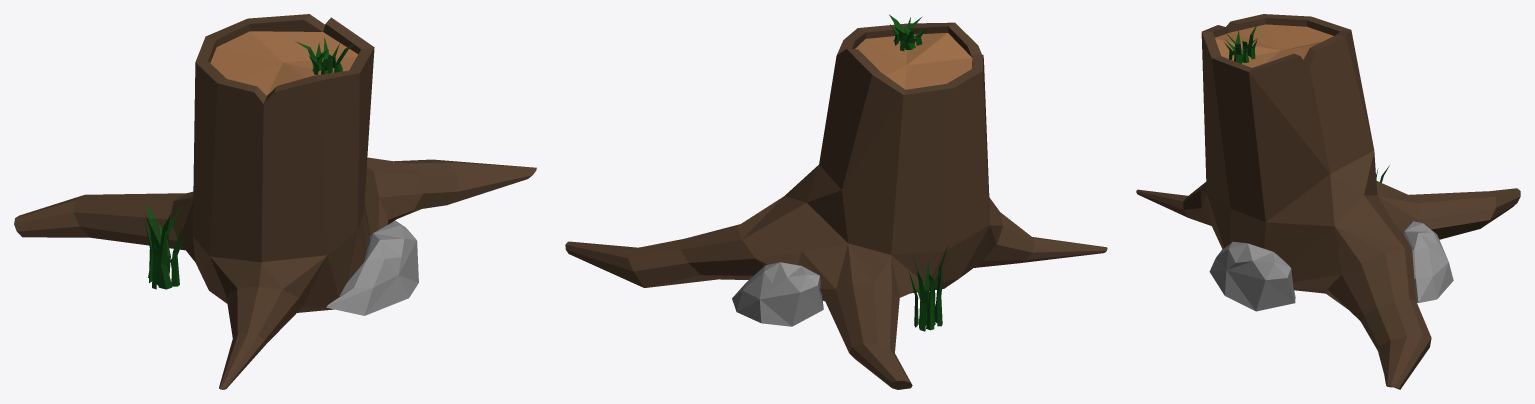
The model's file is trunks 2 .fbx.
3 views of the same model, side by side, from view 1: azimuth 30°, elevation 25°; view 2: azimuth 150°, elevation 25°; view 3: azimuth 270°, elevation 25° (orthographic). The views are drawn at different scales.
Parts seen in each view (by area): view 1: LowPoly Tree .025; view 2: LowPoly Tree .025; view 3: LowPoly Tree .025.
Boxes of the visible parts, x1,y1,x2,y2 form: LowPoly Tree .025: (14,14,536,389); LowPoly Tree .025: (565,14,1107,389); LowPoly Tree .025: (1136,14,1520,389).
Bounding box in the file's own units: 56.03 × 31.48 × 46.23.
